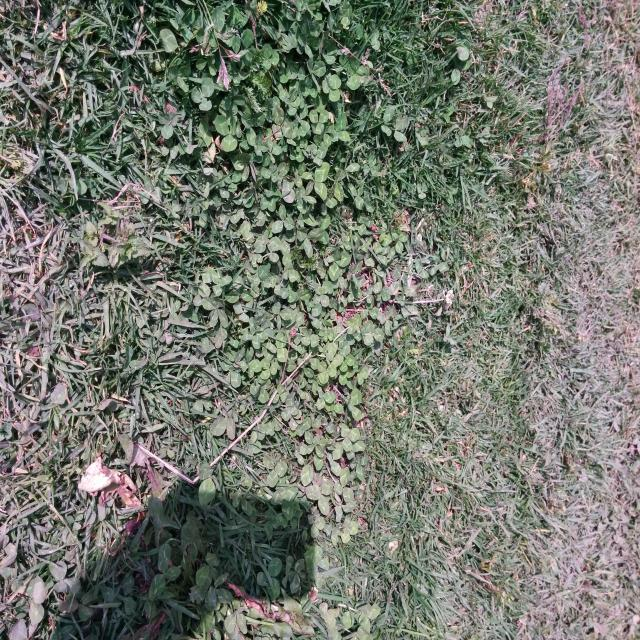Four Leaf Clover: (202, 296, 229, 328)
